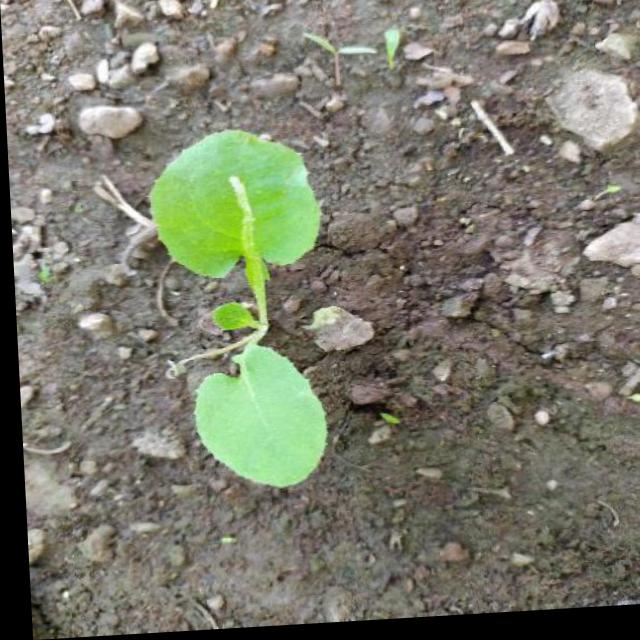weed: (131, 121, 336, 510)
